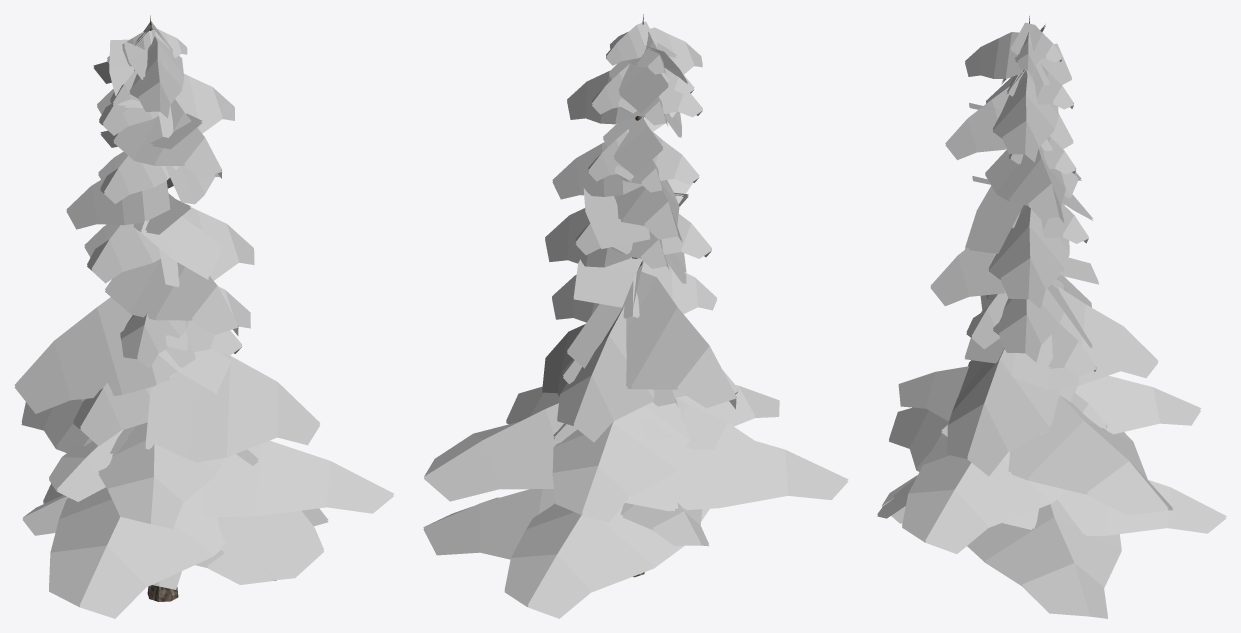
Rendered from Pine_004.fbx.
3 views of the same model, side by side, from view 1: azimuth 30°, elevation 25°; view 2: azimuth 150°, elevation 25°; view 3: azimuth 270°, elevation 25° (orthographic). The views are drawn at different scales.
Visible parts, largest first — view 1: Tree_Fir_Leaves4; view 2: Tree_Fir_Leaves4; view 3: Tree_Fir_Leaves4.
Boxes of the visible parts, x1,y1,x2,y2 form: Tree_Fir_Leaves4: [14, 21, 394, 618]; Tree_Fir_Leaves4: [423, 21, 848, 618]; Tree_Fir_Leaves4: [877, 22, 1226, 618].
Bounding box in the file's own units: 952 × 1539 × 911.
